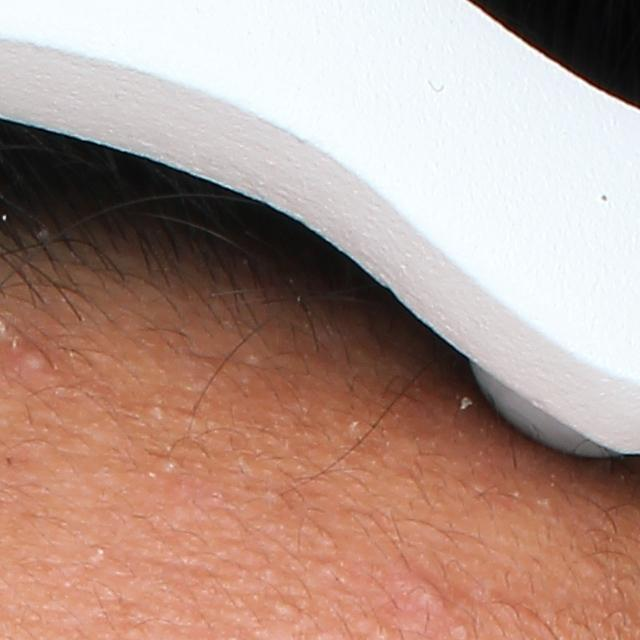comedo: (151, 453, 190, 482)
papule: (408, 574, 455, 614), (21, 343, 56, 377)
